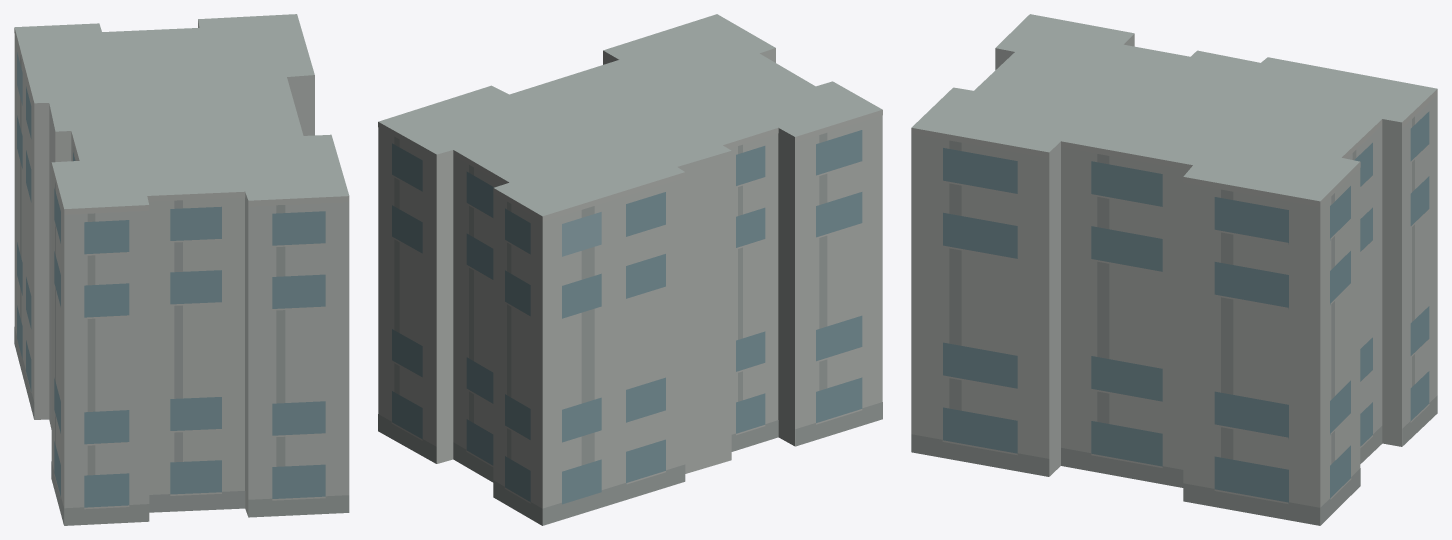
The model's file is survey-upis-32992989.glb.
3 renders of one model, left to right at view 1: azimuth 30°, elevation 25°; view 2: azimuth 150°, elevation 25°; view 3: azimuth 270°, elevation 25°, orthographic. The views are drawn at different scales.
Parts seen in each view (by area): view 1: survey-upis-32992989.tmp; view 2: survey-upis-32992989.tmp; view 3: survey-upis-32992989.tmp.
Part boxes in pixels (bbox=[...]): survey-upis-32992989.tmp: bbox=[14, 14, 349, 525]; survey-upis-32992989.tmp: bbox=[378, 14, 882, 525]; survey-upis-32992989.tmp: bbox=[911, 14, 1437, 525].
Bounding box in the file's own units: 16.47 × 13.3 × 19.56.
